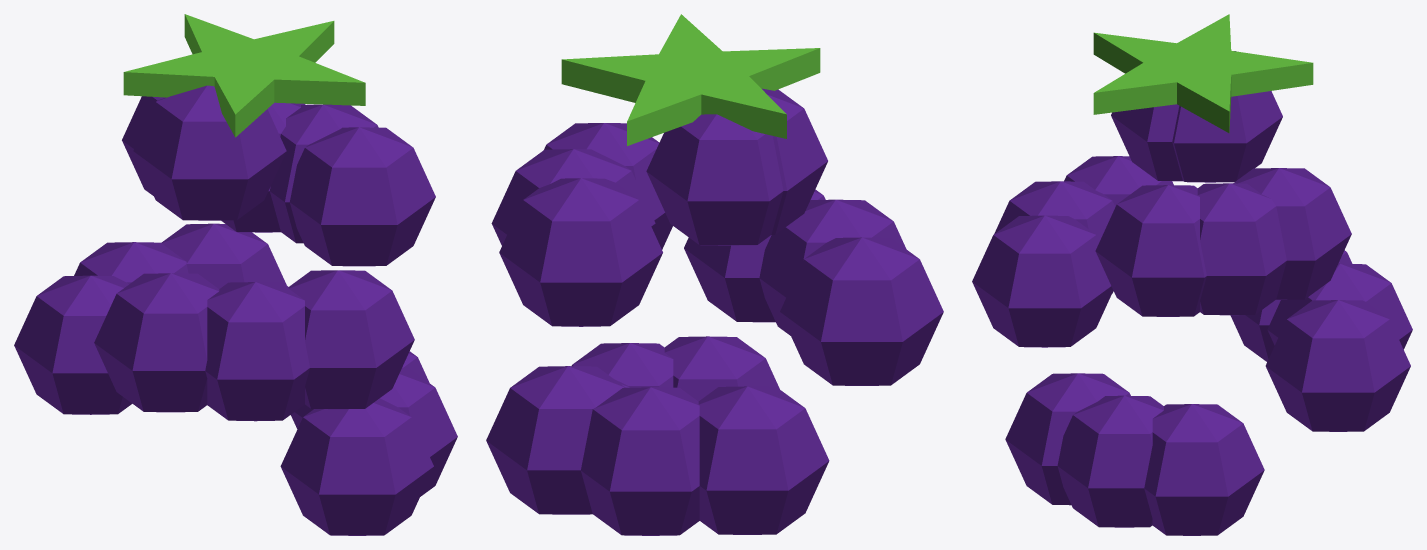
Rendered from Blackberry.fbx.
The picture shows the model from 3 angles, left to right: view 1: azimuth 30°, elevation 25°; view 2: azimuth 150°, elevation 25°; view 3: azimuth 270°, elevation 25°; orthographic projection. The views are drawn at different scales.
Visible parts, largest first — view 1: Blackberry; view 2: Blackberry; view 3: Blackberry.
Boxes of the visible parts, x1,y1,x2,y2 form: Blackberry: (14,14,457,535); Blackberry: (486,14,943,535); Blackberry: (972,14,1412,535).
Size of the model in its own units: 0.7823 by 0.955 by 0.9085.
Materials: 1 (1 with a texture image).
